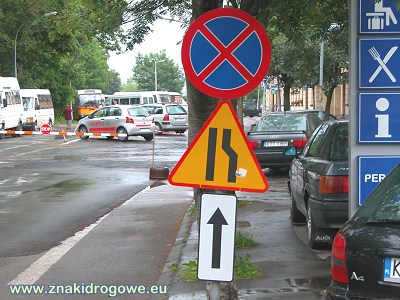no_stopping_sign: (181, 7, 272, 100)
